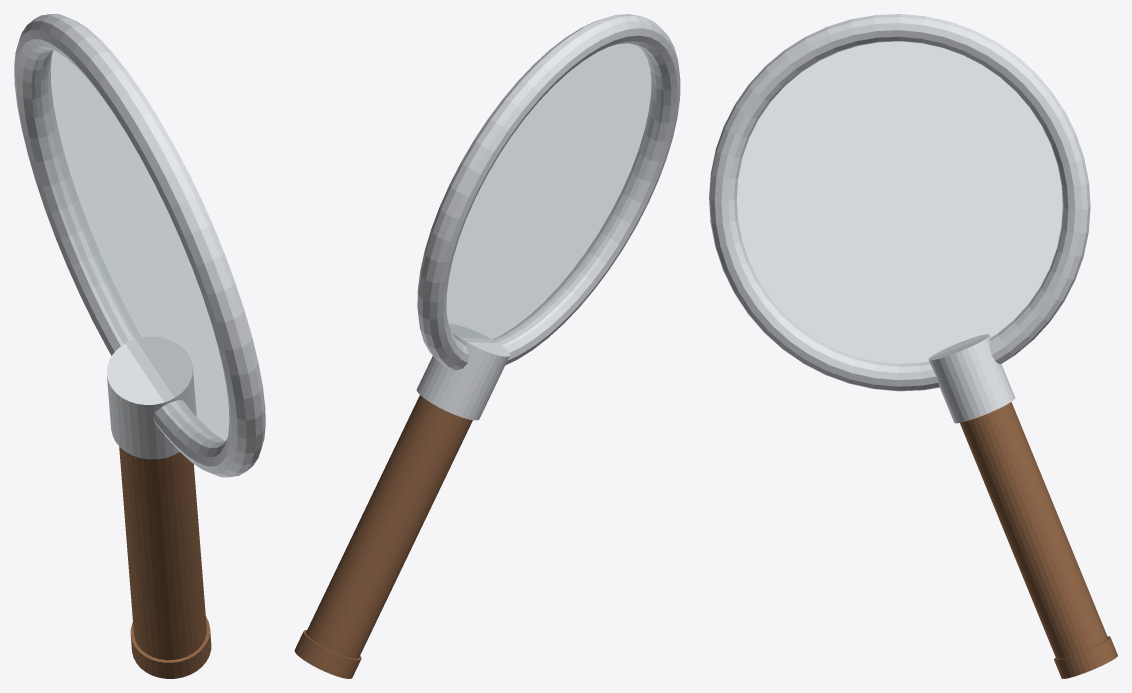
Rendered from lupa.glb.
The picture shows the model from 3 angles, left to right: view 1: azimuth 30°, elevation 25°; view 2: azimuth 150°, elevation 25°; view 3: azimuth 270°, elevation 25°; orthographic projection. The views are drawn at different scales.
Visible parts, largest first — view 1: Marco, Lente, Mango, Union, Cabo_final, Ferrule; view 2: Lente, Marco, Mango, Union, Cabo_final, Ferrule; view 3: Lente, Marco, Mango, Union, Cabo_final, Ferrule.
Part boxes in pixels (x1,y1,x2,y2): Marco: (14, 14, 265, 477); Lente: (35, 50, 229, 445); Mango: (119, 446, 206, 660); Union: (107, 336, 196, 435); Cabo_final: (130, 617, 211, 678); Ferrule: (109, 406, 196, 459); Lente: (446, 43, 660, 345); Marco: (417, 14, 680, 370); Mango: (306, 395, 472, 658); Union: (422, 324, 509, 404); Cabo_final: (294, 630, 361, 678); Ferrule: (416, 378, 492, 420); Lente: (735, 41, 1063, 365); Marco: (709, 14, 1090, 391); Mango: (960, 402, 1107, 659); Union: (928, 334, 1010, 411); Cabo_final: (1054, 636, 1117, 678); Ferrule: (943, 386, 1015, 423).
Size of the model in its own units: 0.9009 by 2.55 by 1.61.
